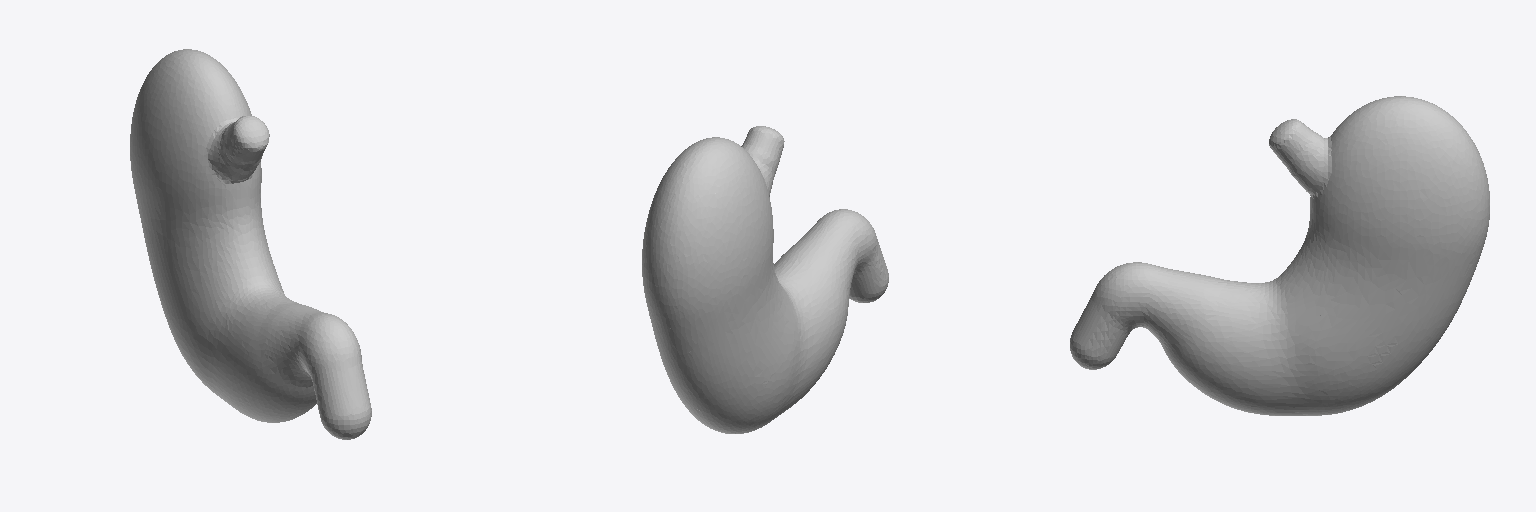
The model's file is stomach_easy.obj.
3 views of the same model, side by side, from view 1: azimuth 30°, elevation 25°; view 2: azimuth 150°, elevation 25°; view 3: azimuth 270°, elevation 25° (orthographic).
Visible parts, largest first — view 1: mmGroup0; view 2: mmGroup0; view 3: mmGroup0.
Boxes of the visible parts, x1,y1,x2,y2 form: mmGroup0: [130, 49, 371, 439]; mmGroup0: [642, 126, 888, 433]; mmGroup0: [1070, 96, 1489, 415].
Size of the model in its own units: 0.0528 by 0.1649 by 0.1999.